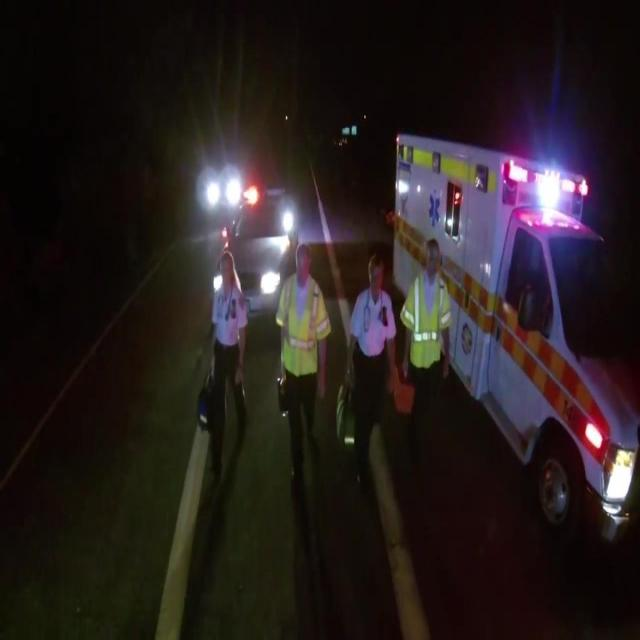Vest: (271, 272, 331, 377), (395, 270, 451, 368)
